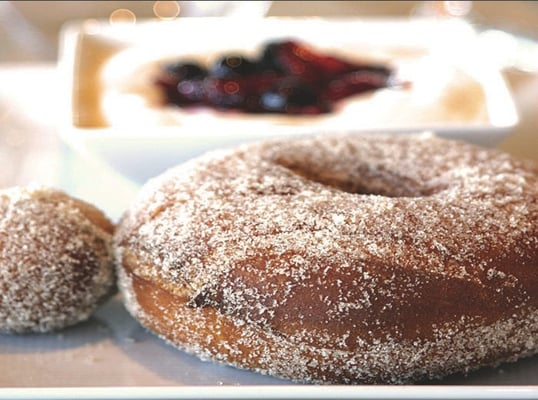salad: (113, 131, 538, 384), (0, 185, 117, 335)
